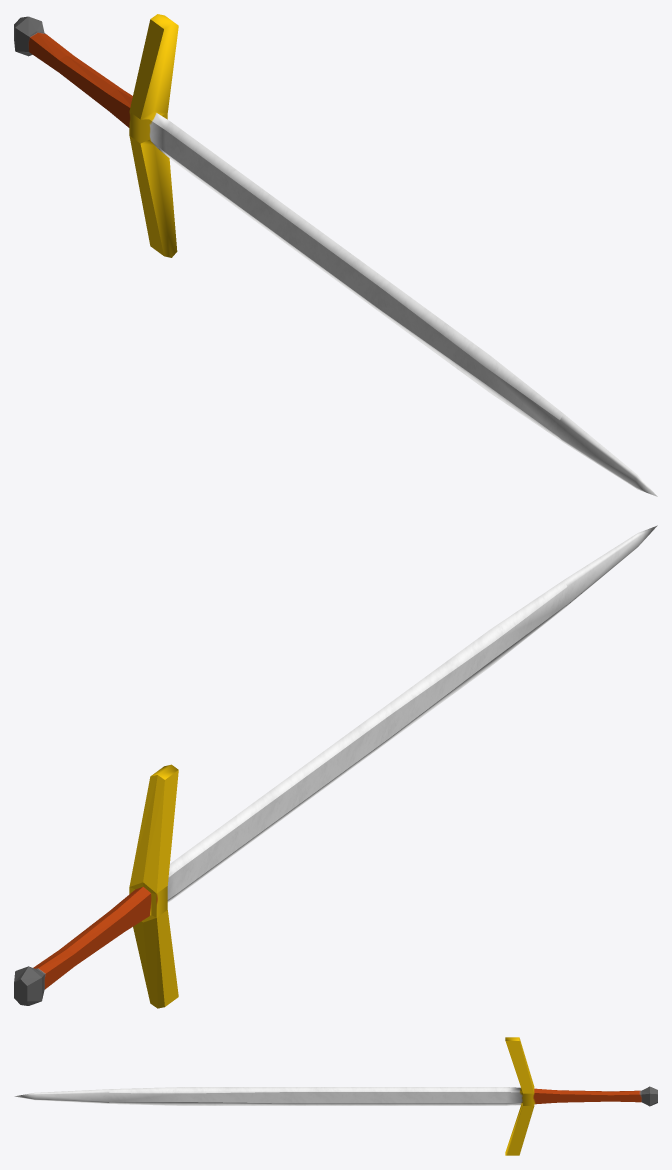
Rendered from Sword.FBX.
The picture shows the model from 3 angles, top to bottom: view 1: azimuth 30°, elevation 25°; view 2: azimuth 150°, elevation 25°; view 3: azimuth 270°, elevation 25°; orthographic projection. The views are drawn at different scales.
Parts seen in each view (by area): view 1: Box001; view 2: Box001; view 3: Box001.
Boxes of the visible parts, x1,y1,x2,y2 form: Box001: (14,14,657,496); Box001: (14,525,657,1008); Box001: (14,1037,657,1155).
Bounding box in the file's own units: 4.18 × 34.15 × 169.
